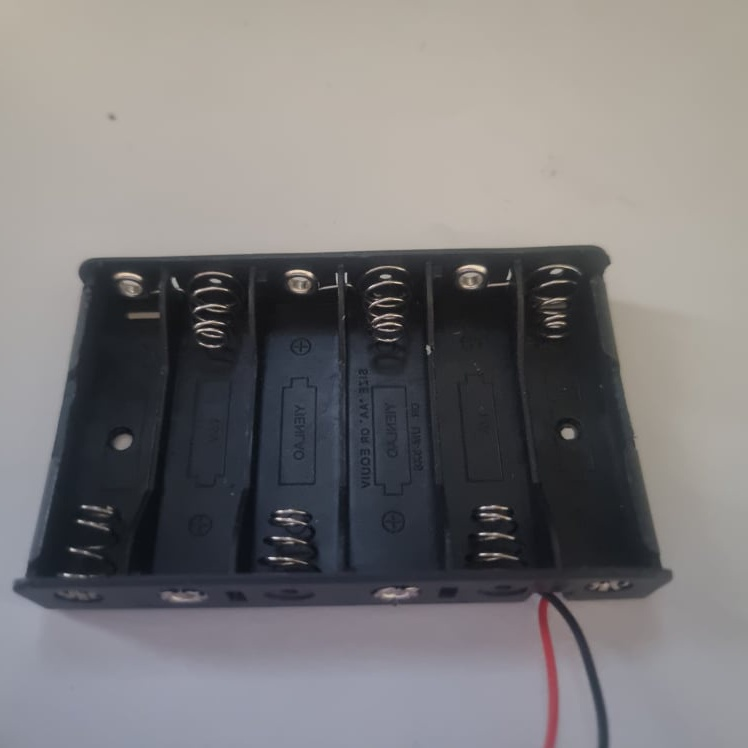BATTERY BOX: (14, 245, 677, 615)
